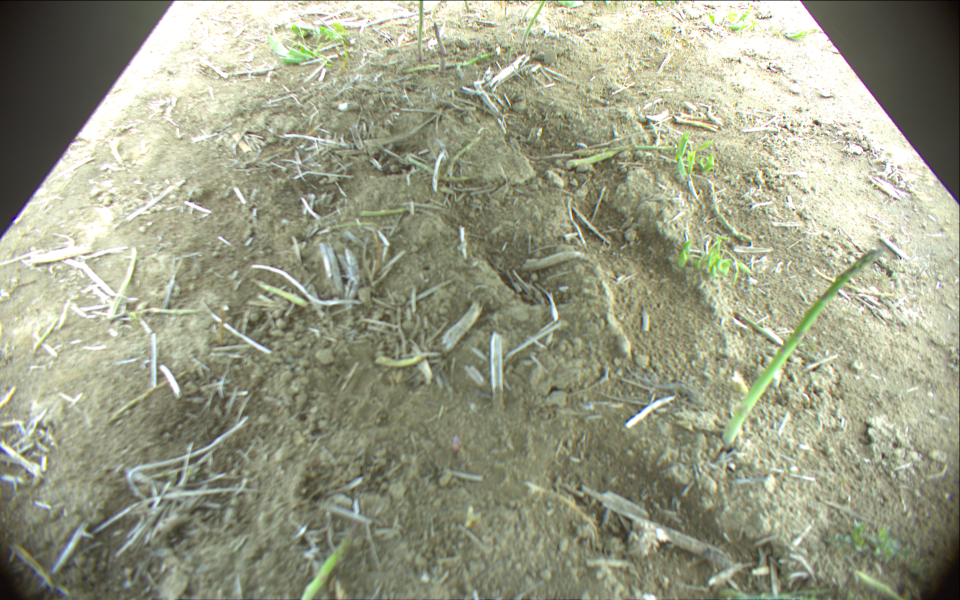aspa: (721, 248, 886, 448), (299, 530, 354, 600), (566, 144, 678, 168), (404, 50, 500, 74), (408, 155, 481, 182), (445, 136, 484, 181), (254, 277, 307, 308), (520, 1, 548, 53), (431, 22, 447, 75), (416, 1, 426, 63), (520, 1, 544, 23), (464, 1, 471, 13)
